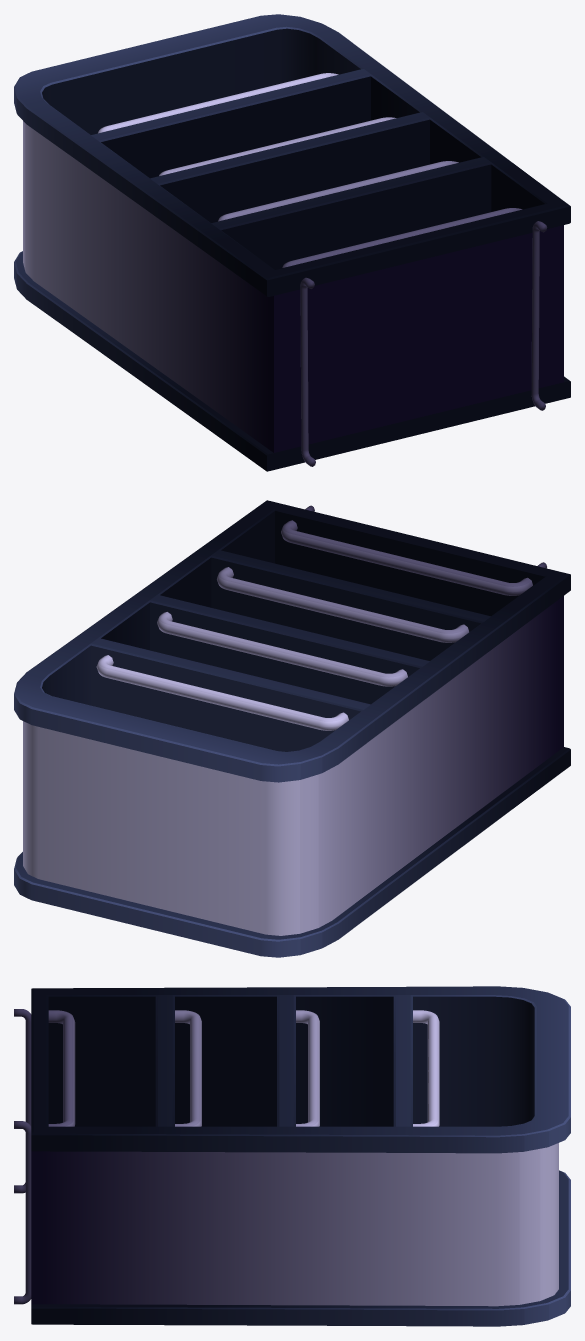
File: Shelf3.fbx
3 renders of one model, top to bottom at view 1: azimuth 30°, elevation 25°; view 2: azimuth 150°, elevation 25°; view 3: azimuth 270°, elevation 25°, orthographic.
Visible parts, largest first — view 1: Shelf.047; view 2: Shelf.047; view 3: Shelf.047.
Part boxes in pixels (x1,y1,x2,y2): Shelf.047: (14, 14, 570, 471); Shelf.047: (14, 500, 570, 957); Shelf.047: (14, 986, 570, 1326).
Size of the model in its own units: 75.46 by 44.64 by 118.
Materials: 1 (1 with a texture image).
